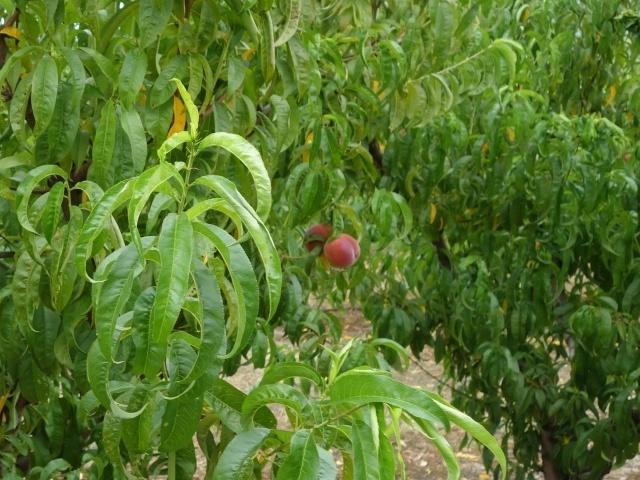peach: (322, 231, 364, 271), (300, 221, 339, 259)
